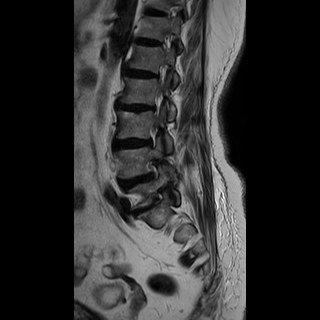LFS0: (140, 121, 167, 151)
LFS1: (138, 156, 165, 186)
